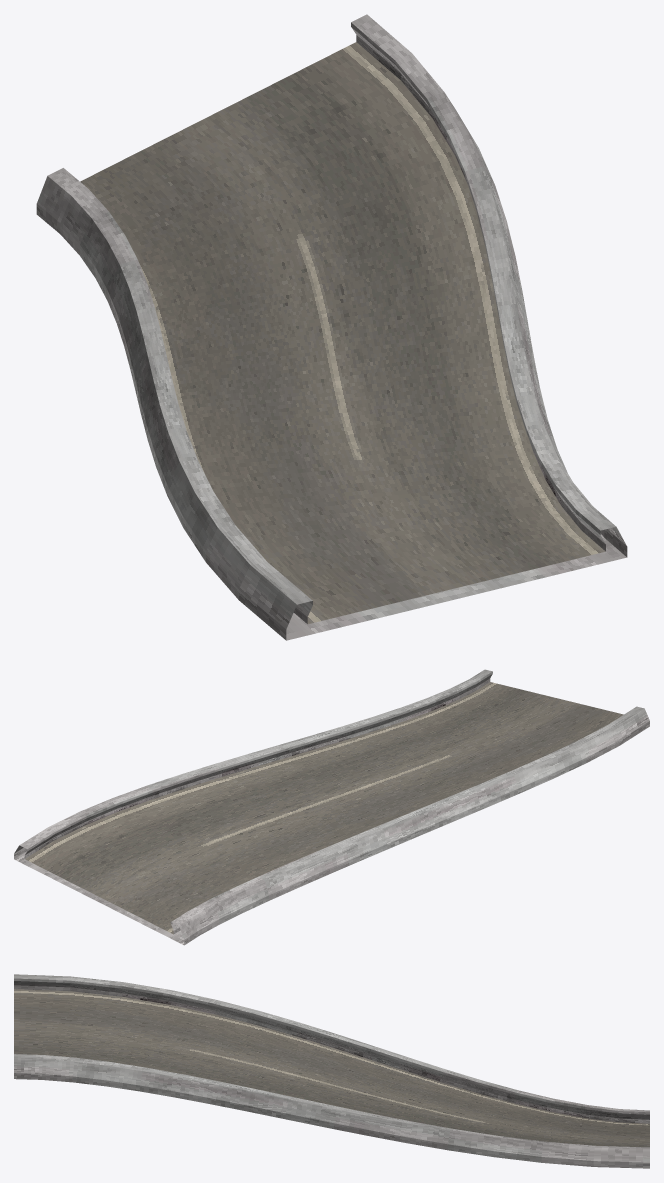
Rendered from road-Chicane-Flat-HalfBankedLeft-Down1-Right1-Size3.glb.
3 views of the same model, one above another, from view 1: azimuth 30°, elevation 25°; view 2: azimuth 150°, elevation 25°; view 3: azimuth 270°, elevation 25° (orthographic). The views are drawn at different scales.
Visible parts, largest first — view 1: road-Chicane-Flat-HalfBankedLeft-Down1-Right1-Size3; view 2: road-Chicane-Flat-HalfBankedLeft-Down1-Right1-Size3; view 3: road-Chicane-Flat-HalfBankedLeft-Down1-Right1-Size3.
Boxes of the visible parts, box(x1,y1,x2,y2) form: road-Chicane-Flat-HalfBankedLeft-Down1-Right1-Size3: box(36, 14, 627, 640); road-Chicane-Flat-HalfBankedLeft-Down1-Right1-Size3: box(14, 669, 649, 945); road-Chicane-Flat-HalfBankedLeft-Down1-Right1-Size3: box(14, 974, 649, 1168).
Bounding box in the file's own units: 2 × 0.3437 × 3.
Materials: 2 (2 with a texture image).
